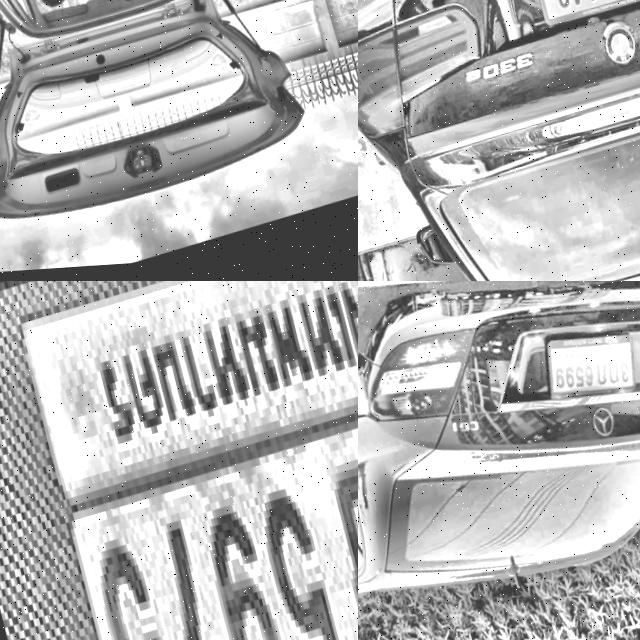license-plate: (0, 281, 358, 640), (536, 327, 640, 421), (521, 0, 640, 39)
